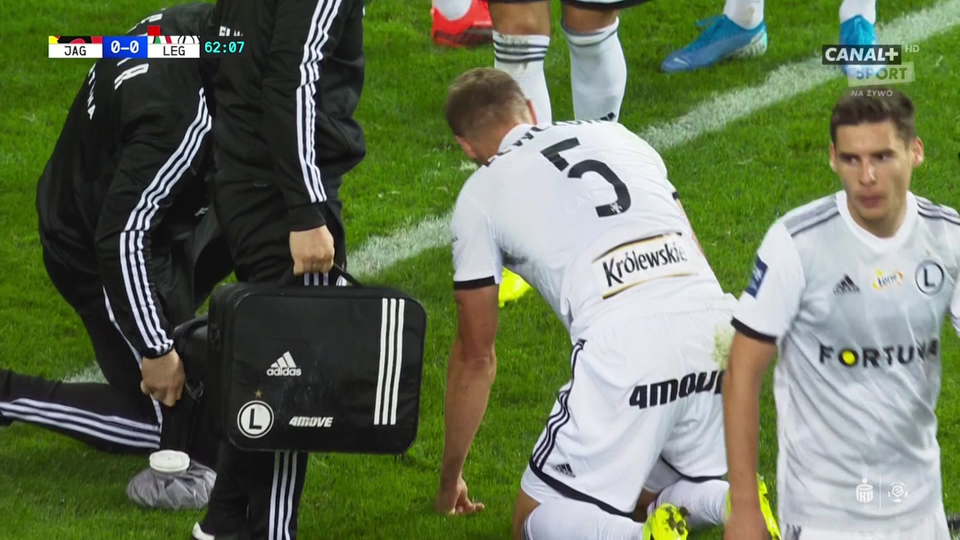Adidas: (265, 350, 303, 378), (833, 272, 860, 293), (553, 460, 577, 478)
